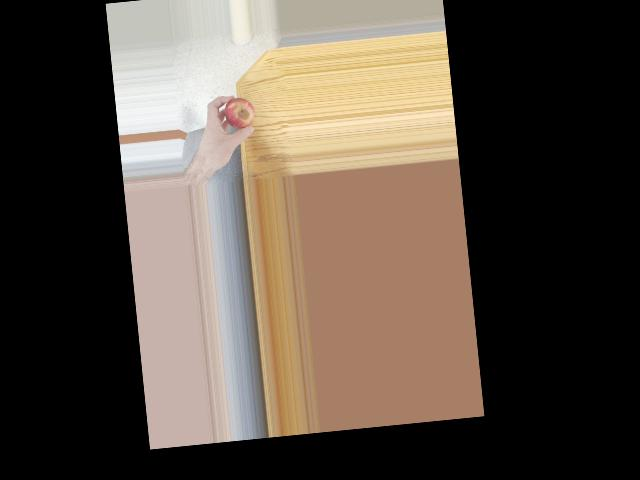apple: (217, 93, 258, 139)
